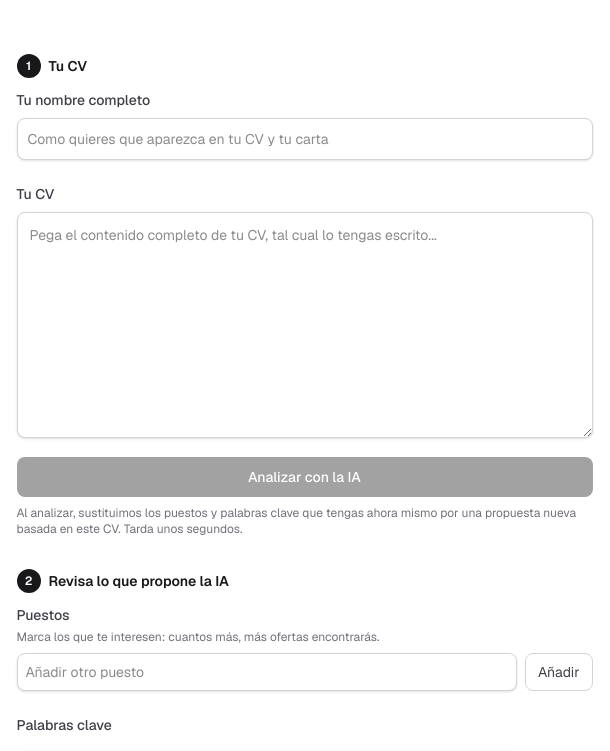
FormularioPerfil — B2: propuesta automática de puestos y palabras clave (T86/T88) › al analizar el CV, muestra los puestos sugeridos (con el principal ya marcado) y las palabras clave
Type "Texto de mi CV real" into the text box labelled "Tu CV" at point(304, 324), box [16,212,592,438]
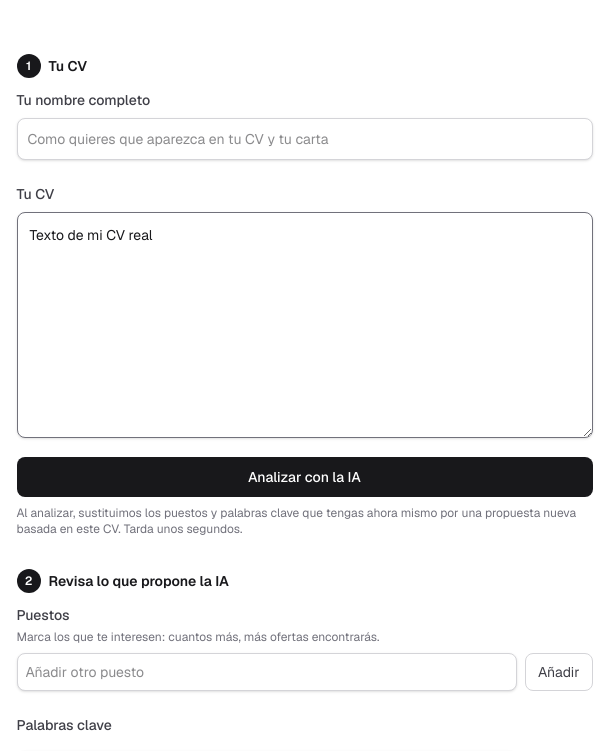
Click the button "Analizar con la IA" at point(304, 476), box [16,456,592,496]
(page scrolled)
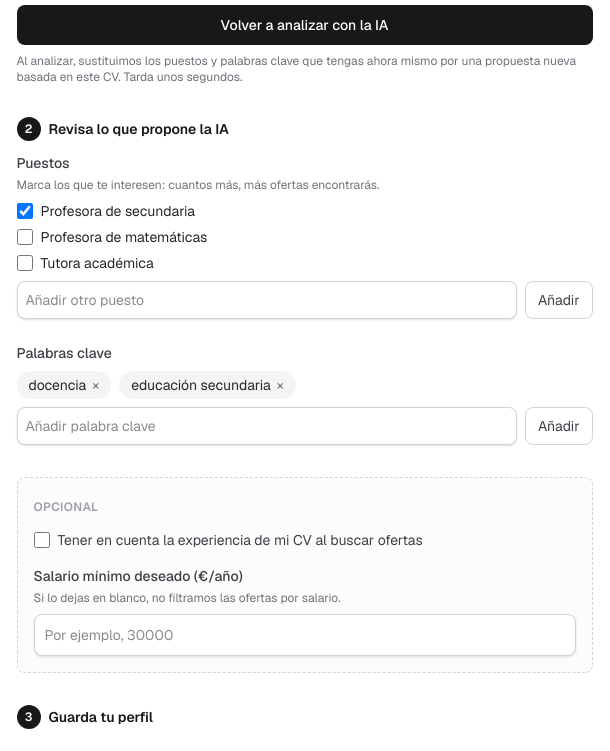
Check: the checkbox labelled "Profesora de secundaria" is checked, box [16,202,32,218]
Check: the checkbox labelled "Profesora de matemáticas" is not checked, box [16,228,32,244]
Check: the checkbox labelled "Tutora académica" is not checked, box [16,254,32,270]
